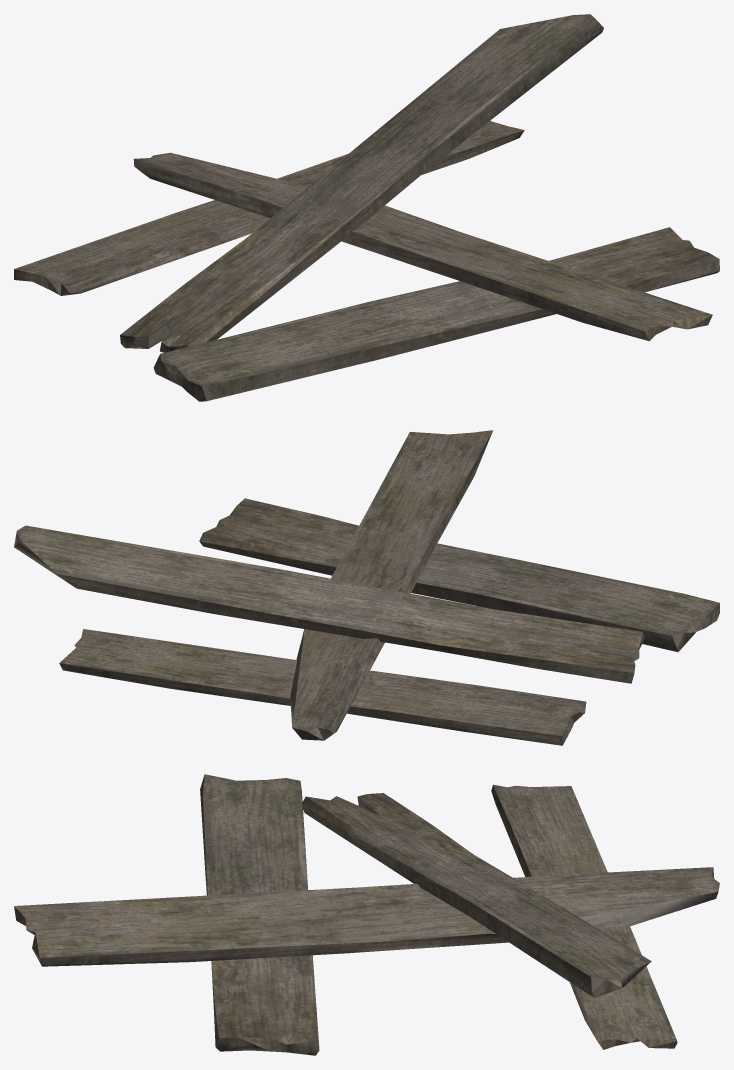
File: SM_Wood_planks_3.fbx
3 views of the same model, one above another, from view 1: azimuth 30°, elevation 25°; view 2: azimuth 150°, elevation 25°; view 3: azimuth 270°, elevation 25° (orthographic). The views are drawn at different scales.
Parts seen in each view (by area): view 1: SM_Wood_planks_3_LOD0; view 2: SM_Wood_planks_3_LOD0; view 3: SM_Wood_planks_3_LOD0.
Boxes of the visible parts, x1=… form: SM_Wood_planks_3_LOD0: x1=14, y1=14, x2=719, y2=401; SM_Wood_planks_3_LOD0: x1=14, y1=430, x2=719, y2=745; SM_Wood_planks_3_LOD0: x1=14, y1=774, x2=719, y2=1055.
Bounding box in the file's own units: 172 × 174 × 31.11.
